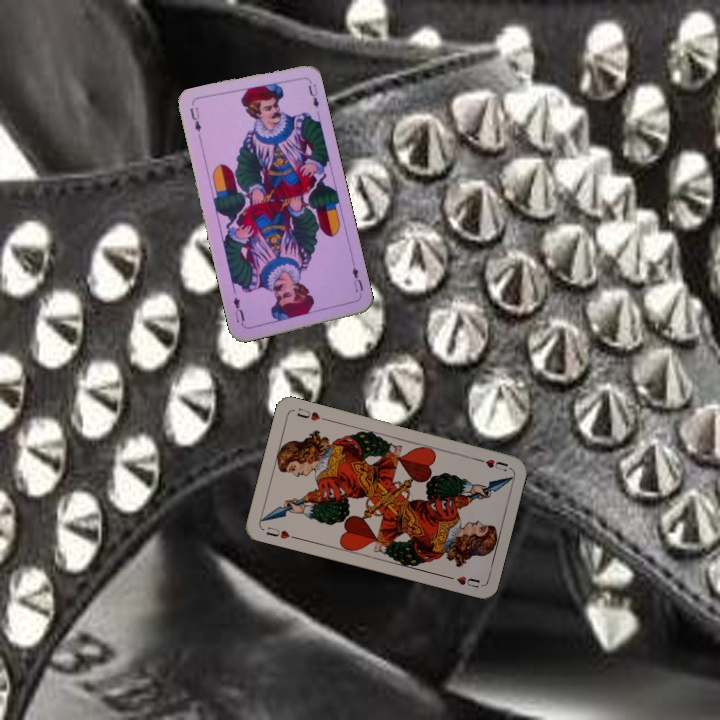EU: (348, 258, 366, 295), (185, 103, 203, 134)
HU: (472, 454, 510, 474), (262, 523, 299, 542)
